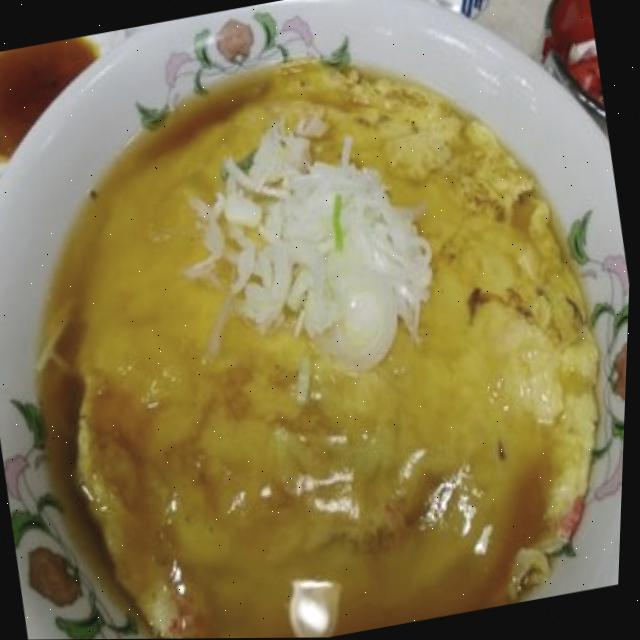面条主食: (0, 18, 639, 640)
